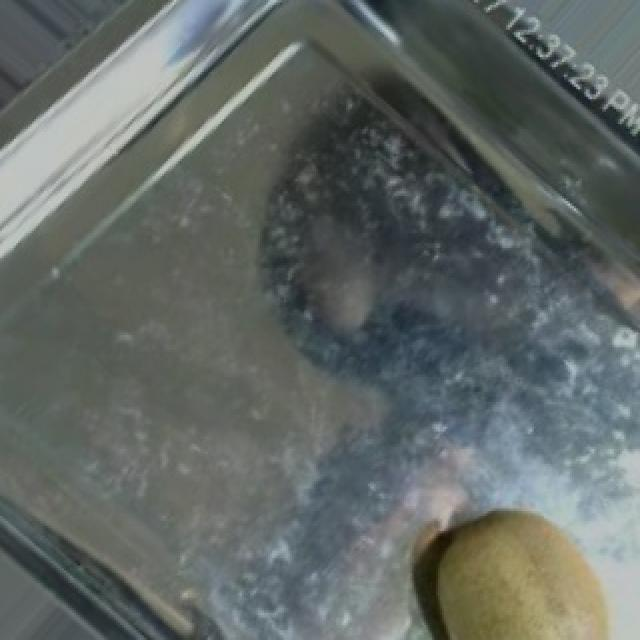Fruit: (404, 483, 640, 640)
